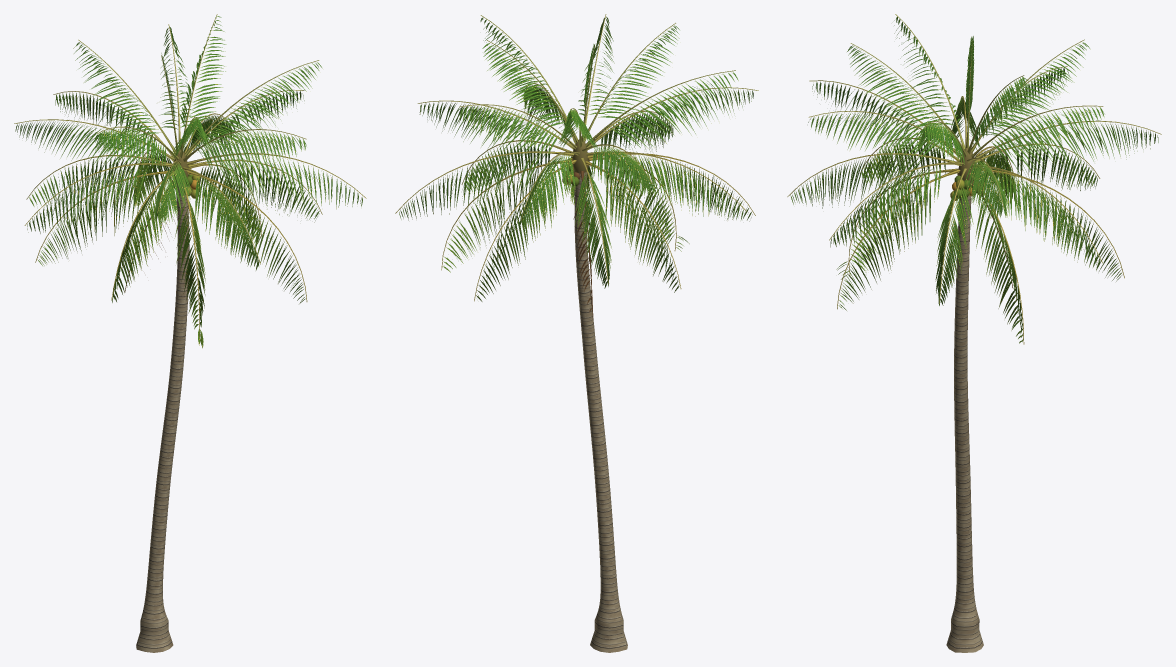
3 renders of one model, left to right at view 1: azimuth 30°, elevation 25°; view 2: azimuth 150°, elevation 25°; view 3: azimuth 270°, elevation 25°, orthographic. The views are drawn at different scales.
Parts seen in each view (by area): view 1: fronds, trunk, crown_husk; view 2: fronds, trunk, crown_husk; view 3: fronds, trunk, crown_husk.
Part boxes in pixels (<box>): fronds: <box>14,14,366,348</box>; trunk: <box>136,183,189,652</box>; crown_husk: <box>124,150,200,292</box>; fronds: <box>395,14,758,301</box>; trunk: <box>573,169,627,652</box>; crown_husk: <box>562,139,593,317</box>; fronds: <box>787,14,1161,344</box>; trunk: <box>946,182,983,652</box>; crown_husk: <box>950,148,1012,287</box>.
Size of the model in its own units: 9.93 by 18.64 by 10.22.
3 materials, 3 textured.
